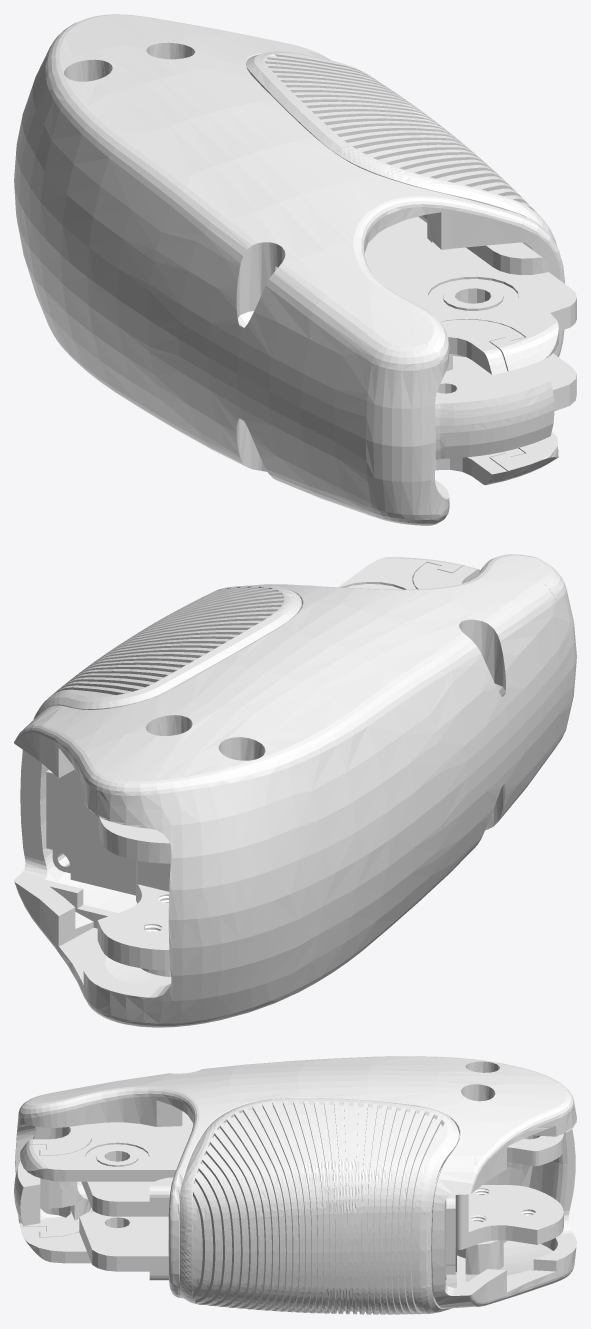
File: rh_thumb_metacarpals_vis.obj
The picture shows the model from 3 angles, top to bottom: view 1: azimuth 30°, elevation 25°; view 2: azimuth 150°, elevation 25°; view 3: azimuth 270°, elevation 25°; orthographic projection. The views are drawn at different scales.
Parts seen in each view (by area): view 1: rh_thumb_metacarpals; view 2: rh_thumb_metacarpals; view 3: rh_thumb_metacarpals.
Boxes of the visible parts, x1=… form: rh_thumb_metacarpals: x1=14, y1=14, x2=576, y2=525; rh_thumb_metacarpals: x1=14, y1=554, x2=576, y2=1027; rh_thumb_metacarpals: x1=14, y1=1056, x2=576, y2=1314.
Bounding box in the file's own units: 0.033 × 0.0254 × 0.0656.
Materials: 1 (1 with a texture image).
